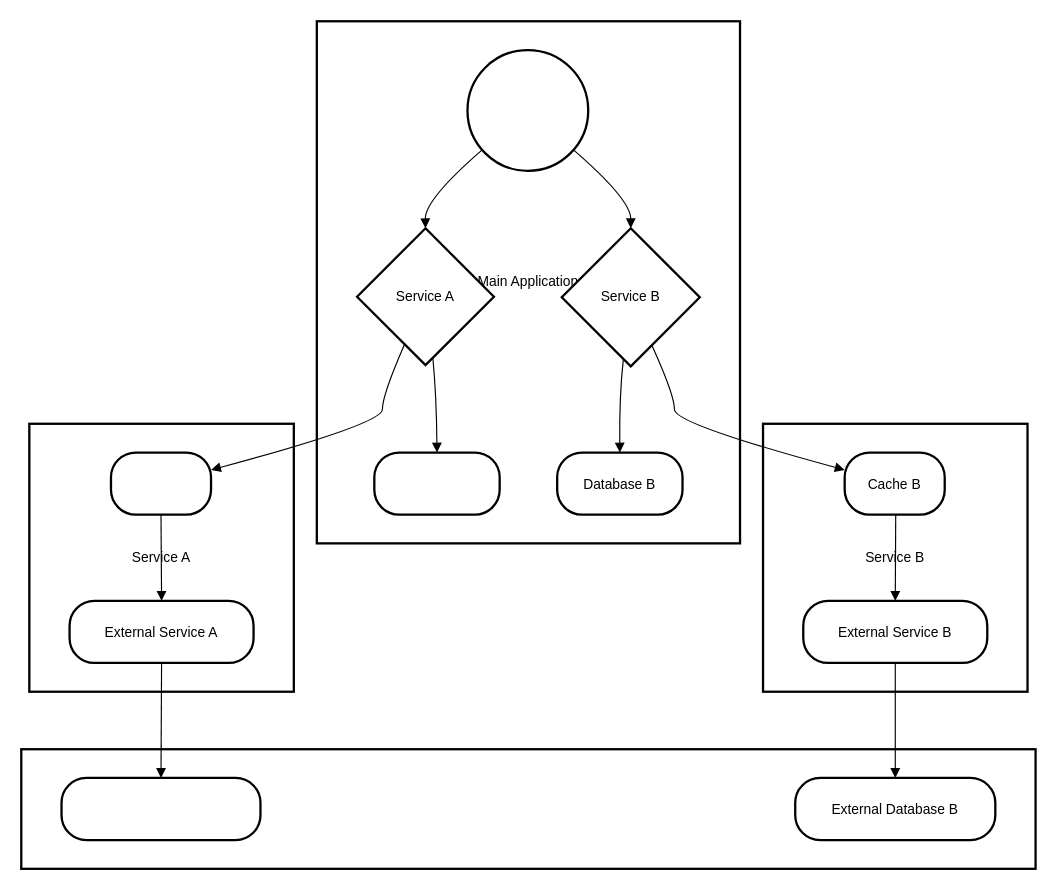
Some shapes in this 1056 by 889 pixel diagram are drawn without their labels. Here are the shapes that lost their labels. From the top down, the box of each, then its label:
(466, 48, 589, 171): API Gateway
(109, 451, 212, 515): Cache A
(373, 451, 500, 515): Database A
(60, 776, 261, 841): External Database A
(20, 747, 1036, 869): External Services
